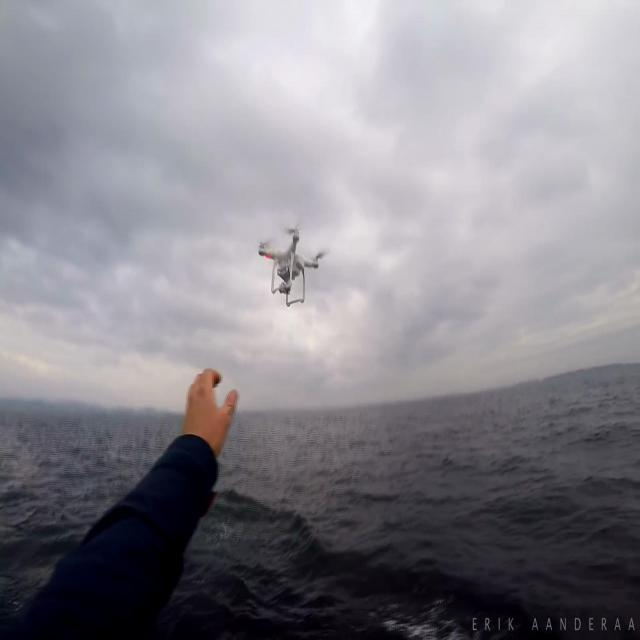drones: (253, 201, 339, 318)
